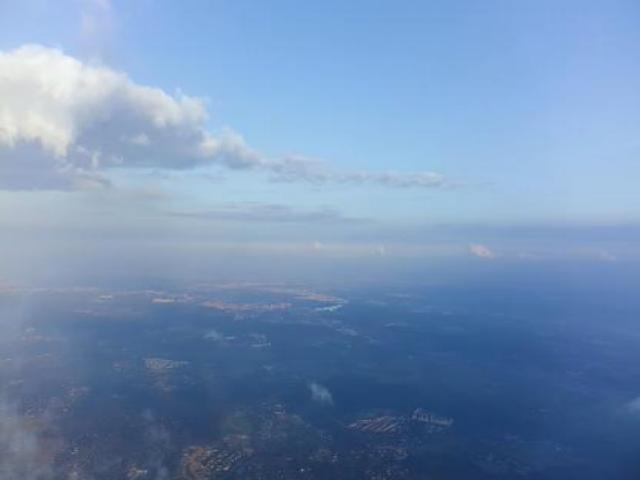uav: (313, 300, 344, 312)
